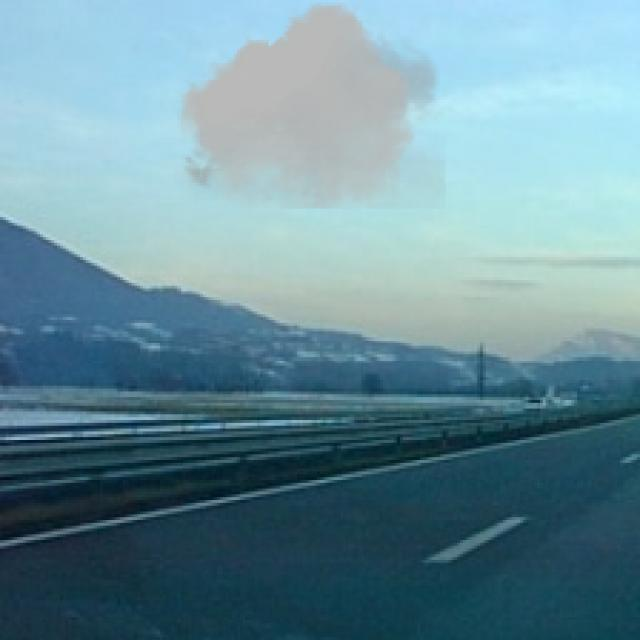smoke: (174, 3, 446, 208)
